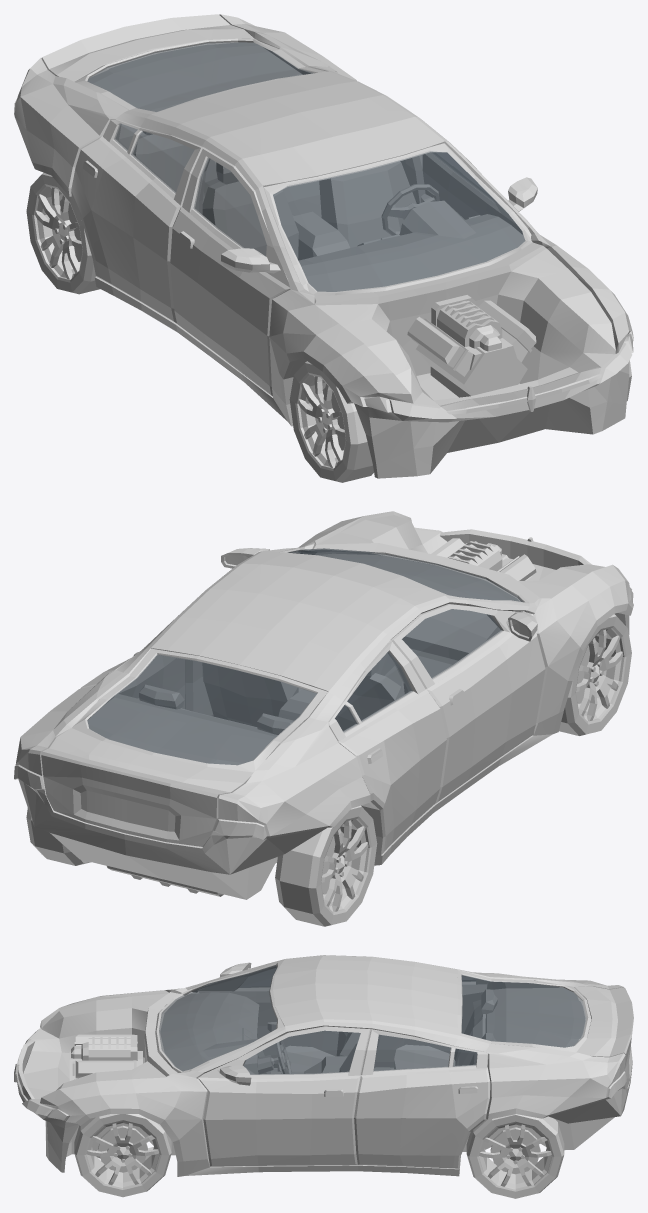
The model's file is Sedan_01_Base.glb.
3 views of the same model, one above another, from view 1: azimuth 30°, elevation 25°; view 2: azimuth 150°, elevation 25°; view 3: azimuth 270°, elevation 25° (orthographic). The views are drawn at different scales.
Visible parts, largest first — view 1: SM_Veh_Sedan_01, SM_Veh_Sedan_01_Glass, SM_Veh_Sedan_01_Door_RR, SM_Veh_Sedan_01_Door_RF, SM_Veh_Sedan_01_Wheel_fr, SM_Veh_Sedan_01_Boot, SM_Veh_Sedan_01_Wheel_rr, SM_Veh_Sedan_01_Door_RF_Glass, SM_Veh_Sedan_01_Door_LF, SM_Veh_Sedan_01_SteeringW; view 2: SM_Veh_Sedan_01, SM_Veh_Sedan_01_Glass, SM_Veh_Sedan_01_Boot, SM_Veh_Sedan_01_Door_RF, SM_Veh_Sedan_01_Door_RR, SM_Veh_Sedan_01_Wheel_rr, SM_Veh_Sedan_01_Wheel_fr, SM_Veh_Sedan_01_Door_RF_Glass, SM_Veh_Sedan_01_Door_LR, SM_Veh_Sedan_01_Wheel_rl; view 3: SM_Veh_Sedan_01, SM_Veh_Sedan_01_Door_LF, SM_Veh_Sedan_01_Door_LR, SM_Veh_Sedan_01_Glass, SM_Veh_Sedan_01_Wheel_rl, SM_Veh_Sedan_01_Wheel_fl, SM_Veh_Sedan_01_Door_LF_Glass, SM_Veh_Sedan_01_Boot, SM_Veh_Sedan_01_Door_RF, SM_Veh_Sedan_01_Door_RR, SM_Veh_Sedan_01_Door_RF_Glass, SM_Veh_Sedan_01_SteeringW.
Boxes of the visible parts, box(x1,y1,x2,y2) form: SM_Veh_Sedan_01: box(14, 14, 633, 478); SM_Veh_Sedan_01_Glass: box(88, 42, 524, 291); SM_Veh_Sedan_01_Door_RR: box(71, 119, 203, 323); SM_Veh_Sedan_01_Door_RF: box(170, 147, 290, 396); SM_Veh_Sedan_01_Wheel_fr: box(289, 361, 373, 482); SM_Veh_Sedan_01_Boot: box(41, 14, 254, 81); SM_Veh_Sedan_01_Wheel_rr: box(26, 172, 99, 294); SM_Veh_Sedan_01_Door_RF_Glass: box(194, 157, 266, 256); SM_Veh_Sedan_01_Door_LF: box(421, 152, 537, 234); SM_Veh_Sedan_01_SteeringW: box(382, 184, 439, 235); SM_Veh_Sedan_01: box(14, 511, 633, 899); SM_Veh_Sedan_01_Glass: box(87, 548, 522, 765); SM_Veh_Sedan_01_Boot: box(41, 728, 253, 846); SM_Veh_Sedan_01_Door_RF: box(390, 604, 545, 803); SM_Veh_Sedan_01_Door_RR: box(328, 640, 446, 855); SM_Veh_Sedan_01_Wheel_rr: box(275, 805, 377, 926); SM_Veh_Sedan_01_Wheel_fr: box(559, 614, 631, 735); SM_Veh_Sedan_01_Door_RF_Glass: box(402, 609, 502, 678); SM_Veh_Sedan_01_Door_LR: box(80, 647, 184, 708); SM_Veh_Sedan_01_Wheel_rl: box(26, 808, 91, 865); SM_Veh_Sedan_01: box(14, 955, 632, 1176); SM_Veh_Sedan_01_Door_LF: box(198, 1026, 370, 1166); SM_Veh_Sedan_01_Door_LR: box(354, 1029, 490, 1168); SM_Veh_Sedan_01_Glass: box(159, 965, 586, 1071); SM_Veh_Sedan_01_Wheel_rl: box(466, 1114, 564, 1198); SM_Veh_Sedan_01_Wheel_fl: box(74, 1114, 171, 1197); SM_Veh_Sedan_01_Door_LF_Glass: box(243, 1030, 360, 1074); SM_Veh_Sedan_01_Boot: box(574, 986, 633, 1086); SM_Veh_Sedan_01_Door_RF: box(197, 962, 338, 1067); SM_Veh_Sedan_01_Door_RR: box(374, 972, 487, 1067); SM_Veh_Sedan_01_Door_RF_Glass: box(240, 968, 276, 987); SM_Veh_Sedan_01_SteeringW: box(271, 1040, 291, 1073).
Size of the model in its own units: 2.3 by 1.53 by 5.23.
